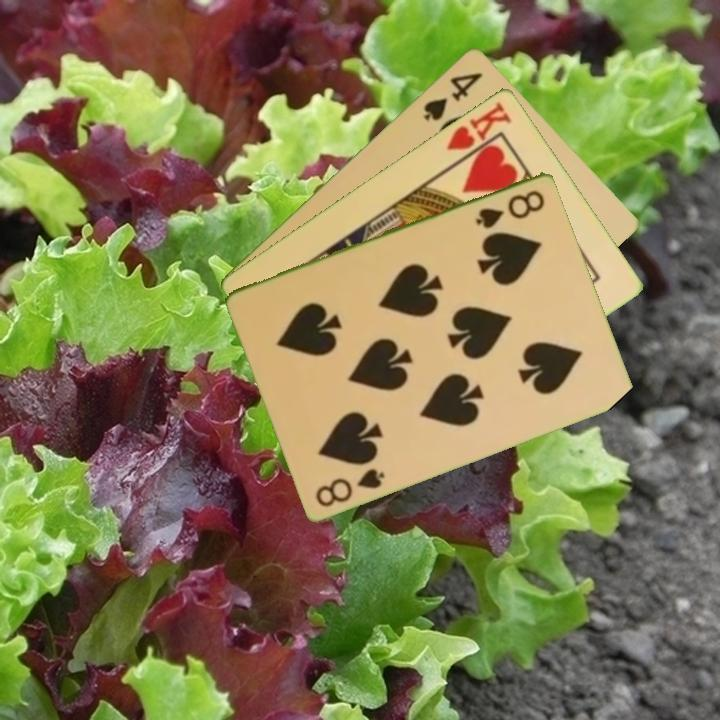4s: (420, 68, 486, 123)
8s: (472, 186, 548, 231), (312, 464, 388, 509)
Kh: (443, 97, 515, 167)
